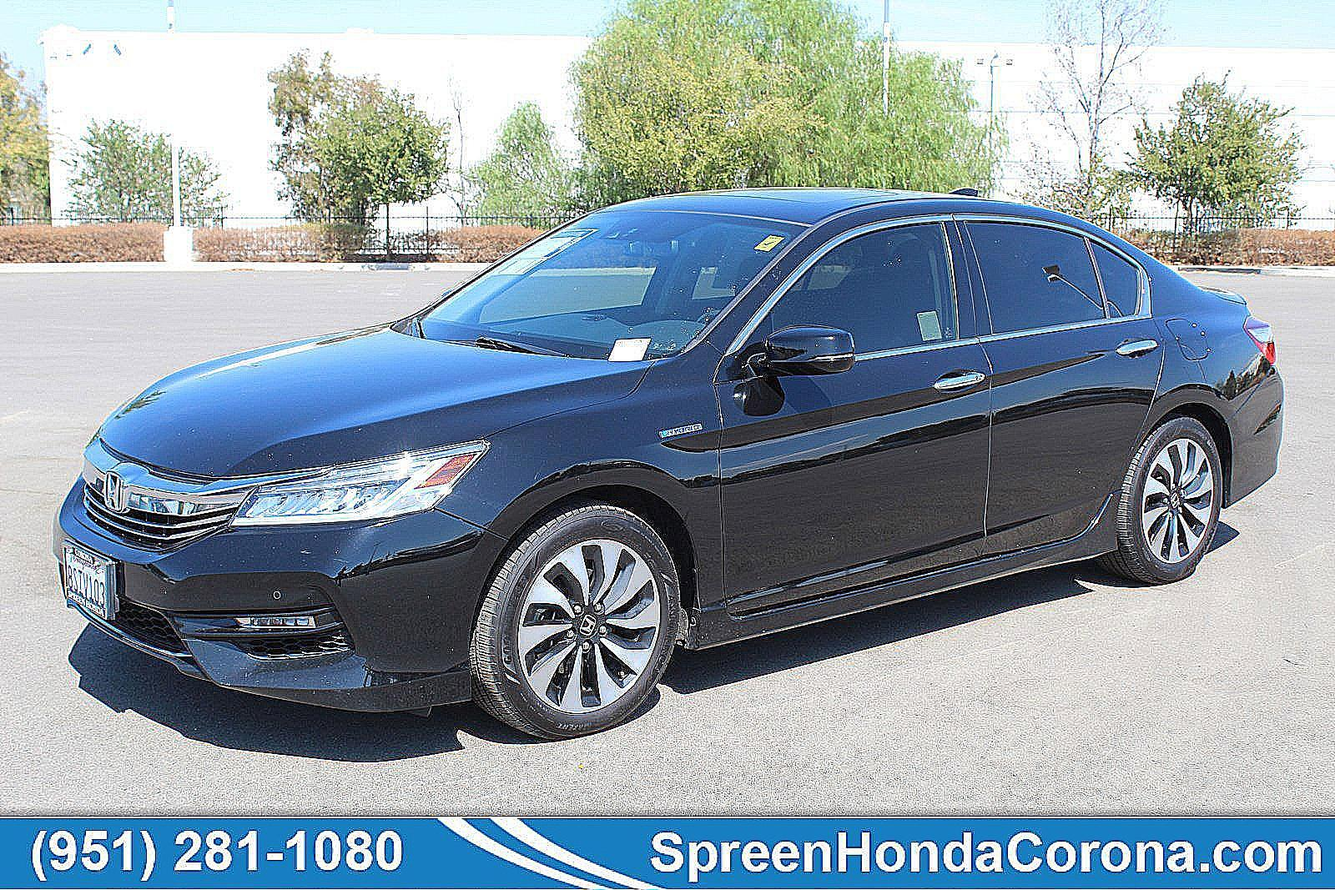Car hood: (89, 316, 654, 476)
Fender - -F-L-: (430, 335, 733, 606)
Fender - -R-L-: (1128, 253, 1262, 435)
Front bumper: (42, 463, 517, 724)
Headlight - -L-: (228, 435, 494, 537)
Passenger-s door - -F-L-: (683, 181, 1008, 663)
Passenger-s door - -R-L-: (935, 186, 1174, 581)
Rear bumper: (1218, 366, 1296, 515)
Rear light - -L-: (1245, 312, 1281, 368)
Side bumper - -L-: (671, 487, 1122, 683)
Side mirror - -L-: (730, 320, 859, 394)
